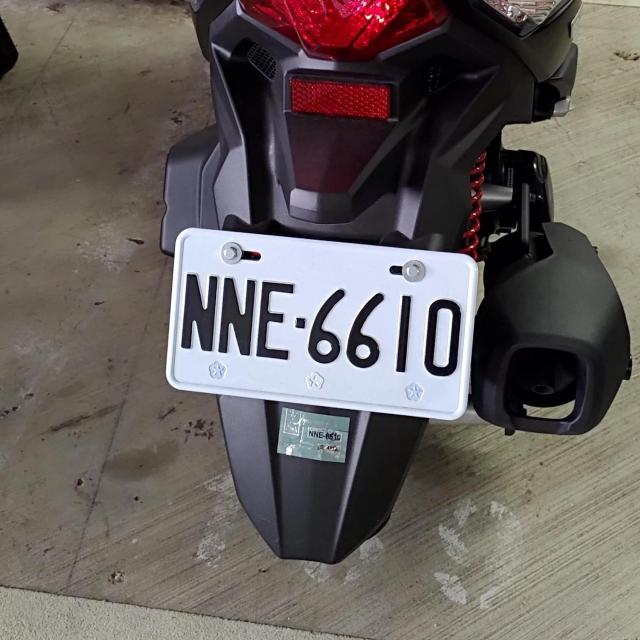W: (162, 227, 483, 418)
